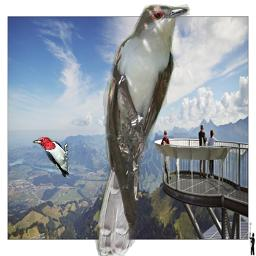Cuckoo: (95, 1, 191, 256)
Woodpecker: (32, 137, 70, 177)
